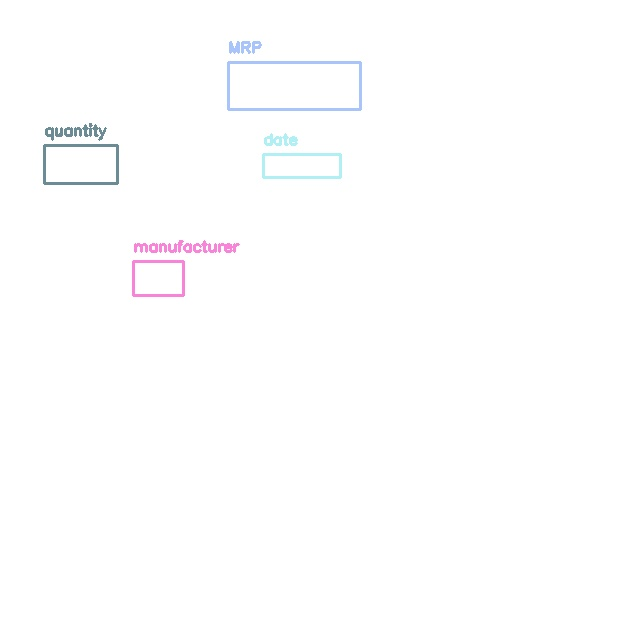MRP: (228, 62, 360, 109)
date: (263, 154, 340, 177)
manufacturer: (133, 261, 183, 295)
quantity: (44, 145, 117, 183)
